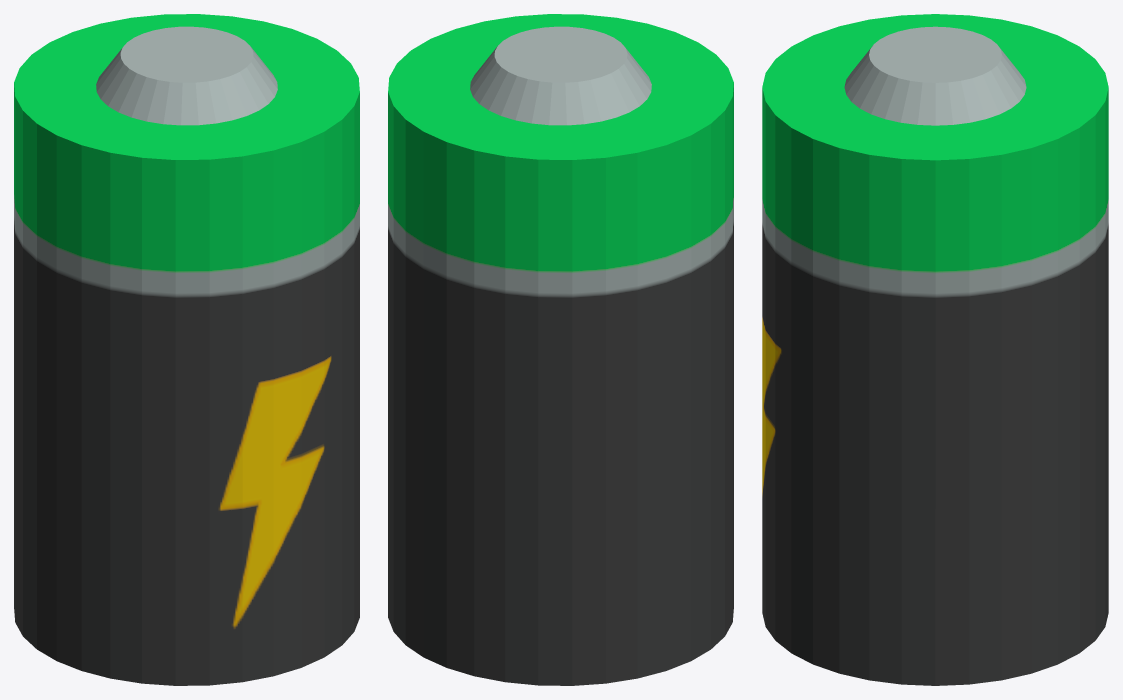
The model's file is Batary_2.fbx.
The picture shows the model from 3 angles, left to right: view 1: azimuth 30°, elevation 25°; view 2: azimuth 150°, elevation 25°; view 3: azimuth 270°, elevation 25°; orthographic projection.
Parts seen in each view (by area): view 1: Cylinder; view 2: Cylinder; view 3: Cylinder.
Boxes of the visible parts, x1,y1,x2,y2 form: Cylinder: [14, 14, 359, 685]; Cylinder: [388, 14, 733, 685]; Cylinder: [762, 14, 1108, 685].
Bounding box in the file's own units: 200 × 355 × 200.
